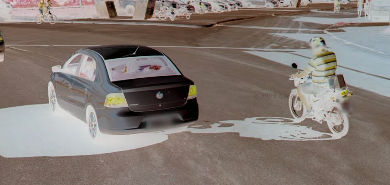car: (45, 40, 207, 142)
